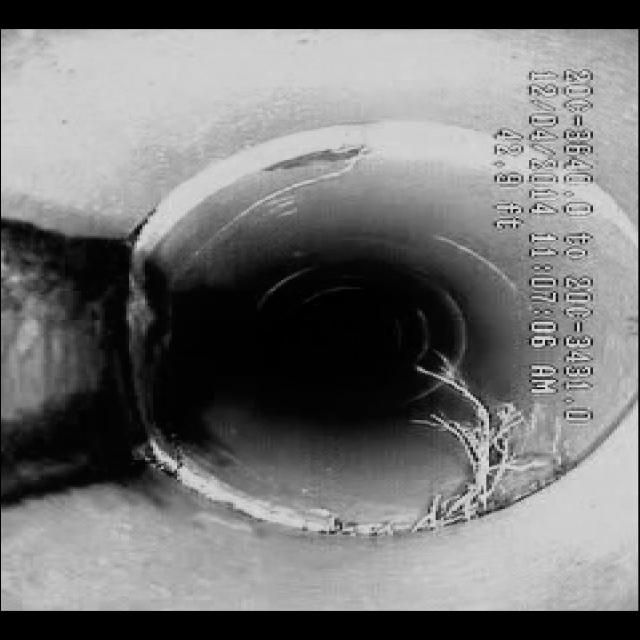Crack: (194, 156, 372, 252)
